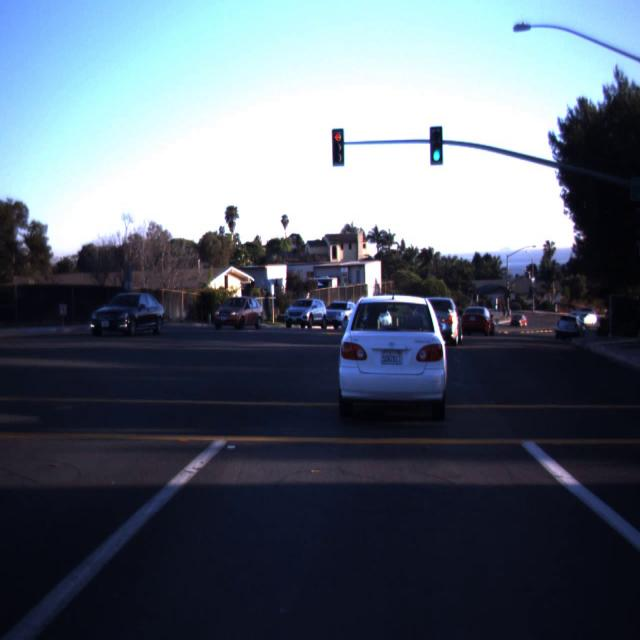kirmizi: (332, 129, 344, 166)
yesil: (430, 127, 443, 165)
